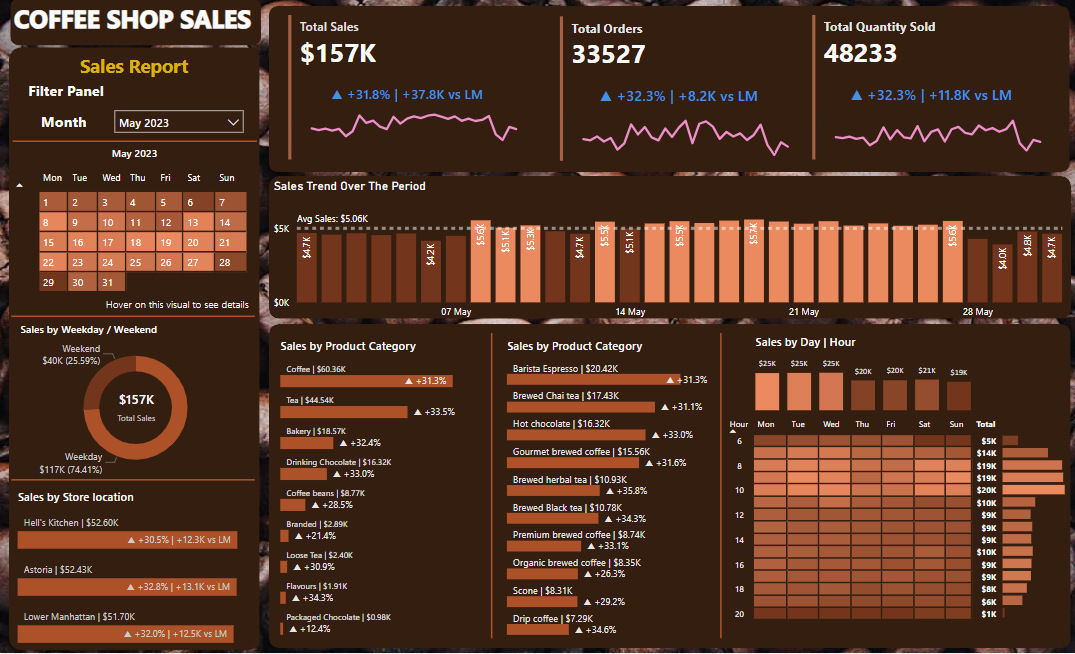

The page's visual inventory and layout, read from the dashboard file:
{"tool":"powerbi","page":{"name":"Dashboard","canvas":[1400,850],"ordinal":0},"visuals":[{"type":"shape","box":[17.8,2.2,325,61.1],"z":0},{"type":"textbox","box":[18.2,1.8,329.1,73.6],"z":500},{"type":"shape","box":[17,65,324.8,781],"z":1000},{"type":"shape","box":[352.9,11.9,1036.6,215],"z":2000},{"type":"slicer","fields":{"Values":["Date Table.Month Year"]},"box":[142.9,137.1,187.1,44.3],"z":4000},{"type":"group","id":"g1","title":"Group 1","box":[376,23.5,313.2,192.5],"z":5000},{"type":"cardVisual","title":"Total Sales","fields":{"Data":["Measure Table (DAX).Total Sales"]},"box":[377.2,23.5,312.1,192.5],"z":5000,"group":"g1"},{"type":"cardVisual","title":"Total Sales","fields":{"Data":["Measure Table (DAX).Total Quantity Sold"]},"box":[1055.5,23.7,312.1,192.5],"z":5000,"group":"g3"},{"type":"cardVisual","title":"Total Sales","fields":{"Data":["Measure Table (DAX).Total Orders"]},"box":[729.4,24.5,312.1,192.5],"z":5000,"group":"g2"},{"type":"group","id":"g2","title":"Group 1","box":[728.2,24.5,312.9,192.9],"z":6000},{"type":"lineChart","fields":{"Y":["Measure Table (DAX).Total Sales"],"Category":["Date Table.Date.Variation.Date Hierarchy.Year","Date Table.Date.Variation.Date Hierarchy.Quarter","Date Table.Date.Variation.Date Hierarchy.Month","Date Table.Date.Variation.Date Hierarchy.Day"]},"box":[376,113.1,312.1,96.3],"z":6000,"group":"g1"},{"type":"lineChart","fields":{"Category":["Date Table.Date.Variation.Date Hierarchy.Year","Date Table.Date.Variation.Date Hierarchy.Quarter","Date Table.Date.Variation.Date Hierarchy.Month","Date Table.Date.Variation.Date Hierarchy.Day"],"Y":["Measure Table (DAX).Total Quantity Sold"]},"box":[1054.3,113.3,312.1,96.3],"z":6000,"group":"g3"},{"type":"lineChart","fields":{"Category":["Date Table.Date.Variation.Date Hierarchy.Year","Date Table.Date.Variation.Date Hierarchy.Quarter","Date Table.Date.Variation.Date Hierarchy.Month","Date Table.Date.Variation.Date Hierarchy.Day"],"Y":["Measure Table (DAX).Total Orders"]},"box":[728.2,114.1,312.1,96.3],"z":6000,"group":"g2"},{"type":"group","id":"g3","title":"Group 1","box":[1054.3,23.7,312.1,192.5],"z":7000},{"type":"pivotTable","fields":{"Rows":["Date Table.Week Number"],"Columns":["Date Table.Day Name"],"Values":["Min(Date Table.Day Number)"]},"box":[16,216,325,198.7],"z":8000},{"type":"card","fields":{"Values":["Min(Date Table.Month Year)"]},"box":[132,190,96,29.3],"z":9000},{"type":"card","fields":{"Values":["Measure Table (DAX).Foot Note"]},"box":[114,384,243.3,32.7],"z":10000},{"type":"shape","box":[20,398.3,315,30],"z":11000},{"type":"shape","box":[21,171,315.9,30],"z":12000},{"type":"donutChart","title":" Sales by Weekday / Weekend","fields":{"Category":["Date Table.Weekday / Weekend"],"Y":["Measure Table (DAX).Total Sales"]},"box":[26,420.7,308.7,206],"z":13000},{"type":"card","fields":{"Values":["Measure Table (DAX).Total Sales"]},"box":[134.3,498.6,94.3,62.8],"z":14000},{"type":"clusteredBarChart","title":"Sales by Store location","fields":{"Category":["Coffee Shop Sales.store_location"],"Y":["Measure Table (DAX).Placeholder","Measure Table (DAX).Total Sales"]},"box":[24,637.3,323.3,208],"z":15000},{"type":"shape","box":[20,610,315,30],"z":16000},{"type":"shape","box":[353.3,231.7,1038.3,185],"z":17000},{"type":"columnChart","title":"Sales Trend Over The Period","fields":{"Category":["Coffee Shop Sales.transaction_date"],"Y":["Measure Table (DAX).Total Sales"]},"box":[351.7,235,1041.6,191.6],"z":18000},{"type":"shape","box":[352.9,422.6,1038,419.7],"z":19000},{"type":"clusteredBarChart","title":"Sales by Product Category","fields":{"Y":["Measure Table (DAX).Placeholder","Measure Table (DAX).Total Sales"],"Category":["Coffee Shop Sales.product_category"]},"box":[364,442.2,265.6,390],"z":20000},{"type":"shape","box":[628.9,435.6,26.7,395],"z":21000},{"type":"clusteredBarChart","title":"Sales by Product Category","fields":{"Y":["Measure Table (DAX).Placeholder","Measure Table (DAX).Total Sales"],"Category":["Coffee Shop Sales.product_type"]},"box":[656,442.2,270,390],"z":22000},{"type":"pivotTable","fields":{"Rows":["Coffee Shop Sales.Hour"],"Columns":["Date Table.Day Name"],"Values":["Measure Table (DAX).Total Sales"]},"box":[940,540,370,292.5],"z":23000},{"type":"shape","box":[925.6,435.6,26.7,395],"z":24000},{"type":"clusteredBarChart","fields":{"Category":["Coffee Shop Sales.Hour"],"Y":["Measure Table (DAX).Total Sales"]},"box":[1299.1,554.6,91.9,253.6],"z":25000},{"type":"columnChart","title":" Sales by Day | Hour","fields":{"Y":["Measure Table (DAX).Total Sales"],"Category":["Date Table.Day Name"]},"box":[977.5,435.8,290,104.2],"z":26000},{"type":"textbox","box":[53.8,143.8,78.8,37.5],"z":27000},{"type":"textbox","box":[36.2,103.8,131.2,40],"z":28000},{"type":"textbox","box":[103.8,68.8,198.8,45],"z":29000}]}

Visuals, with their boxes in screenshot pixels (x1, y1, x2, y2), scaled from the page's 1400x850 canvas onto the 1075x654 screenshot:
shape: left=14, top=2, right=263, bottom=49
textbox: left=14, top=1, right=267, bottom=58
shape: left=13, top=50, right=262, bottom=651
shape: left=271, top=9, right=1067, bottom=175
slicer - Date Table.Month Year: left=110, top=105, right=253, bottom=140
"Group 1" group: left=289, top=18, right=529, bottom=166
"Total Sales" cardVisual: left=290, top=18, right=529, bottom=166
"Total Sales" cardVisual: left=810, top=18, right=1050, bottom=166
"Total Sales" cardVisual: left=560, top=19, right=800, bottom=167
"Group 1" group: left=559, top=19, right=799, bottom=167
lineChart - Measure Table (DAX).Total Sales x Date Table.Date.Variation.Date Hierarchy.Year: left=289, top=87, right=528, bottom=161
lineChart - Date Table.Date.Variation.Date Hierarchy.Year x Date Table.Date.Variation.Date Hierarchy.Quarter: left=810, top=87, right=1049, bottom=161
lineChart - Date Table.Date.Variation.Date Hierarchy.Year x Date Table.Date.Variation.Date Hierarchy.Quarter: left=559, top=88, right=799, bottom=162
"Group 1" group: left=810, top=18, right=1049, bottom=166
pivotTable - Date Table.Week Number x Date Table.Day Name: left=12, top=166, right=262, bottom=319
card - Min(Date Table.Month Year): left=101, top=146, right=175, bottom=169
card - Measure Table (DAX).Foot Note: left=88, top=295, right=274, bottom=321
shape: left=15, top=306, right=257, bottom=330
shape: left=16, top=132, right=259, bottom=155
" Sales by Weekday / Weekend" donutChart: left=20, top=324, right=257, bottom=482
card - Measure Table (DAX).Total Sales: left=103, top=384, right=176, bottom=432
"Sales by Store location" clusteredBarChart: left=18, top=490, right=267, bottom=650
shape: left=15, top=469, right=257, bottom=492
shape: left=271, top=178, right=1069, bottom=321
"Sales Trend Over The Period" columnChart: left=270, top=181, right=1070, bottom=328
shape: left=271, top=325, right=1068, bottom=648
"Sales by Product Category" clusteredBarChart: left=280, top=340, right=483, bottom=640
shape: left=483, top=335, right=503, bottom=639
"Sales by Product Category" clusteredBarChart: left=504, top=340, right=711, bottom=640
pivotTable - Coffee Shop Sales.Hour x Date Table.Day Name: left=722, top=415, right=1006, bottom=641
shape: left=711, top=335, right=731, bottom=639
clusteredBarChart - Coffee Shop Sales.Hour x Measure Table (DAX).Total Sales: left=998, top=427, right=1068, bottom=622
" Sales by Day | Hour" columnChart: left=751, top=335, right=973, bottom=415
textbox: left=41, top=111, right=102, bottom=139
textbox: left=28, top=80, right=129, bottom=111
textbox: left=80, top=53, right=232, bottom=88
